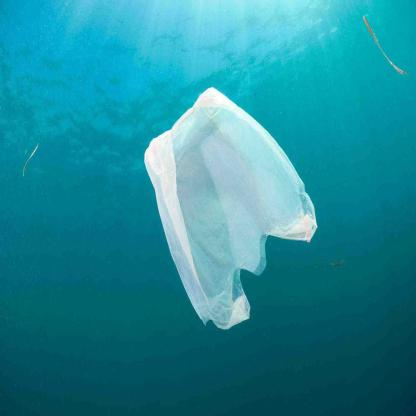plastic-bag: (144, 86, 319, 330)
waste: (363, 16, 409, 79)
